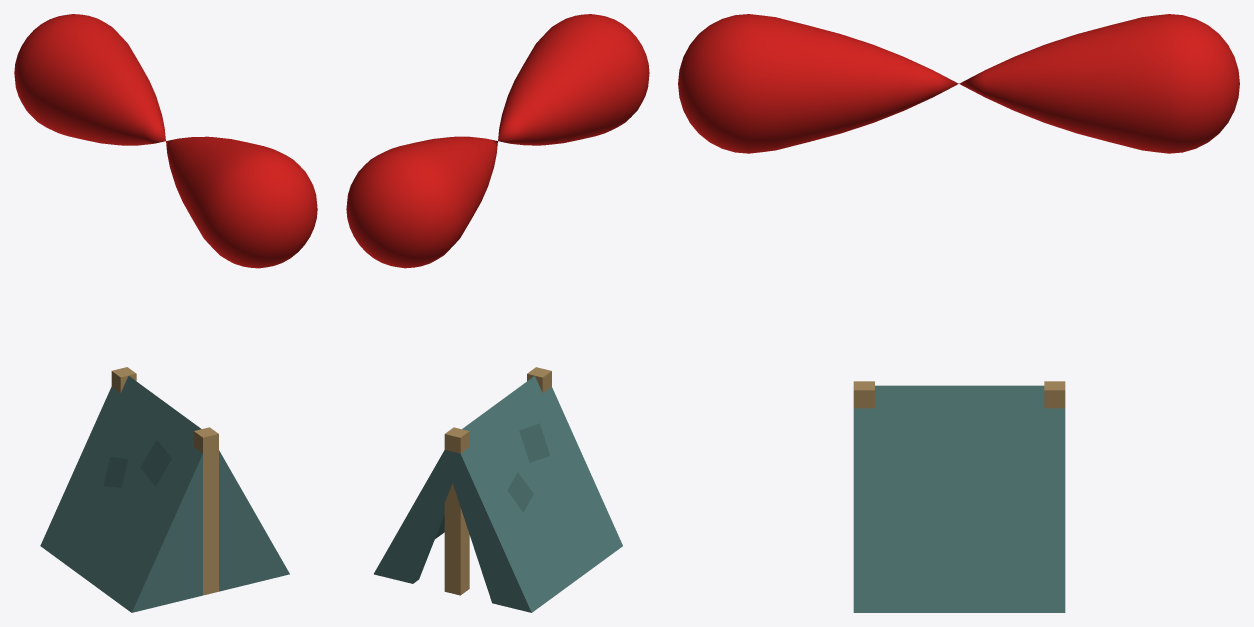
File: testNewScene.obj
The picture shows the model from 3 angles, left to right: view 1: azimuth 30°, elevation 25°; view 2: azimuth 150°, elevation 25°; view 3: azimuth 270°, elevation 25°; orthographic projection. The views are drawn at different scales.
Visible parts, largest first — view 1: Mesh1_Green_Roof, Sphere.001_Sphere.012, Sphere, Mesh1_Wood, Mesh1_Leafs; view 2: Mesh1_Green_Roof, Sphere.001_Sphere.012, Sphere, Mesh1_Wood, Mesh1_Leafs; view 3: Mesh1_Green_Roof, Sphere, Sphere.001_Sphere.012, Mesh1_Wood.
Boxes of the visible parts, x1,y1,x2,y2 form: Mesh1_Green_Roof: (40, 376, 289, 612); Sphere.001_Sphere.012: (14, 14, 165, 145); Sphere: (166, 136, 317, 268); Mesh1_Wood: (111, 367, 218, 595); Mesh1_Leafs: (103, 440, 171, 487); Mesh1_Green_Roof: (374, 376, 622, 612); Sphere.001_Sphere.012: (346, 136, 497, 268); Sphere: (498, 14, 649, 145); Mesh1_Wood: (444, 367, 551, 595); Mesh1_Leafs: (507, 423, 549, 512); Mesh1_Green_Roof: (853, 385, 1065, 612); Sphere: (678, 14, 958, 153); Sphere.001_Sphere.012: (959, 14, 1239, 153); Mesh1_Wood: (853, 381, 1065, 408).
Bounding box in the file's own units: 3 × 8.57 × 7.96.
